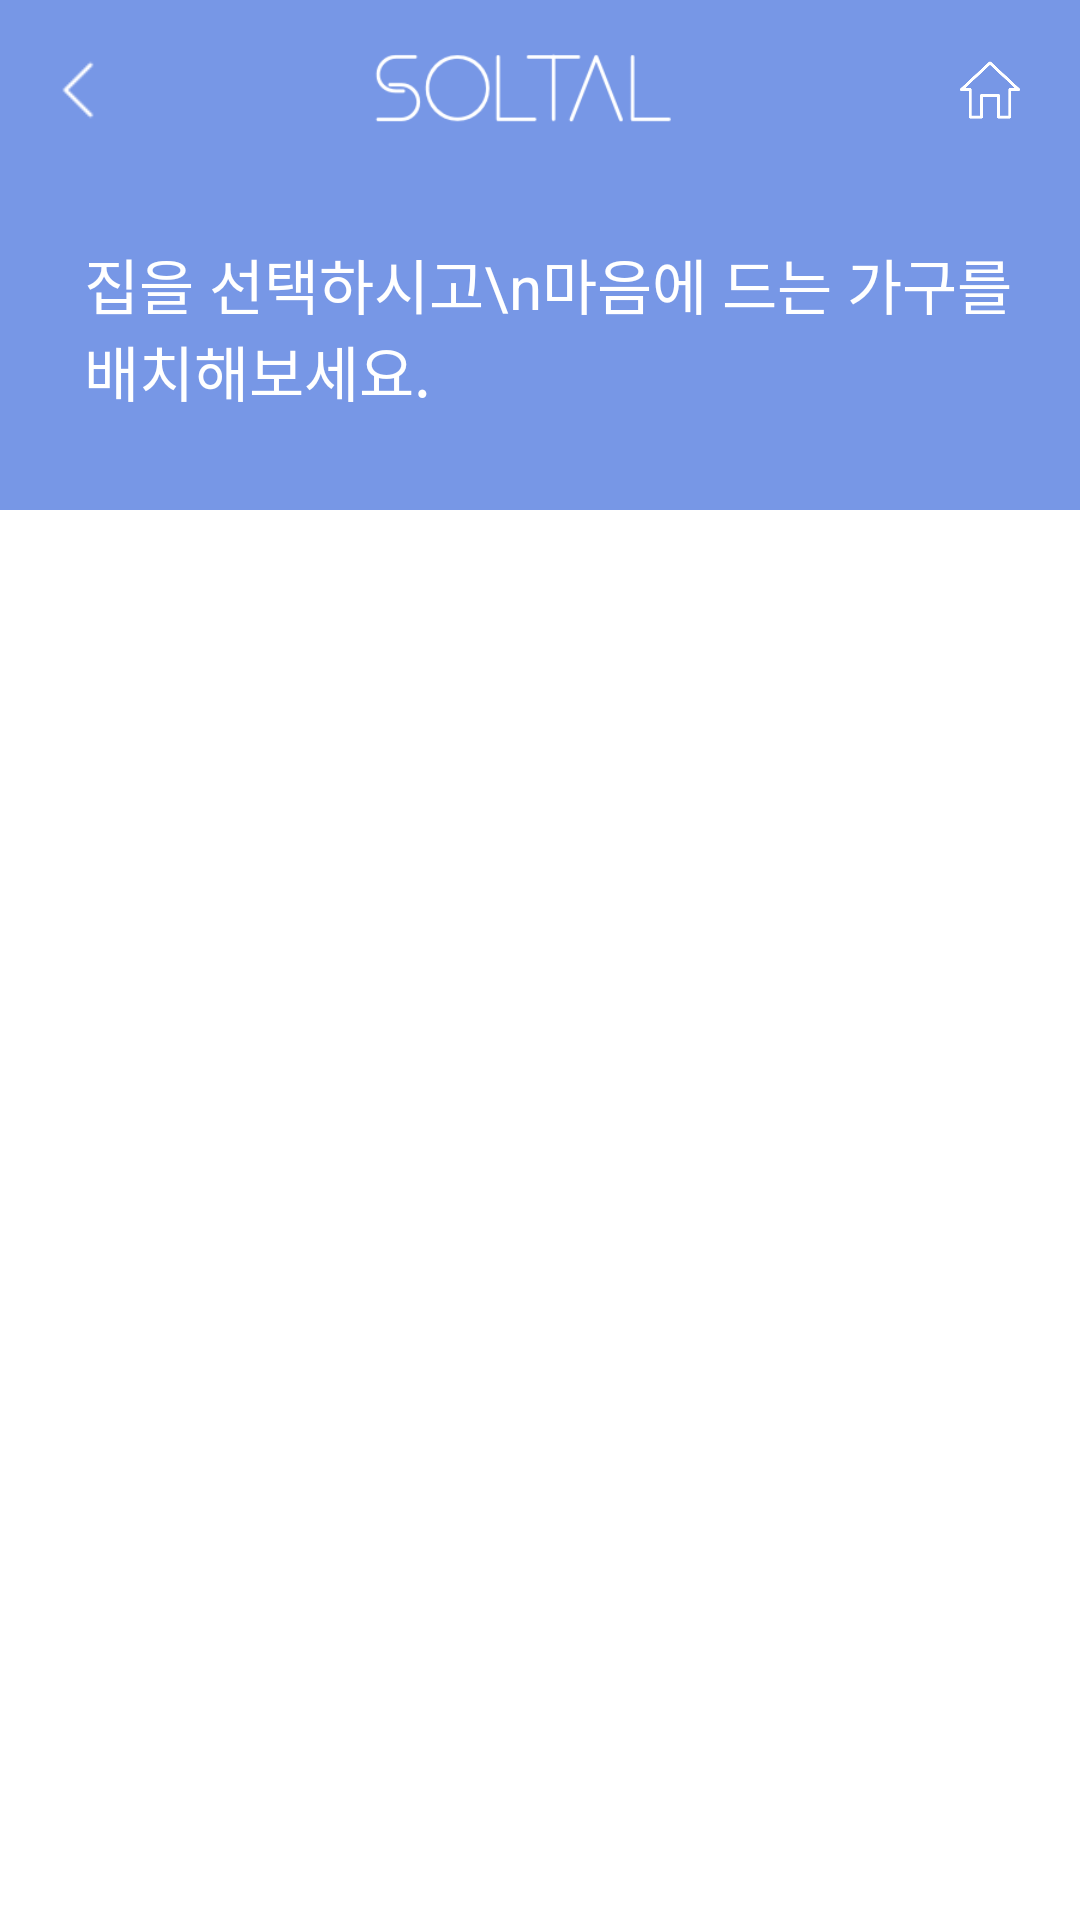

Where to tap for icons on this 1080 × 1920 app screen, as (x=x, y=y):
top back: (x=78, y=90)
top home: (x=990, y=90)
